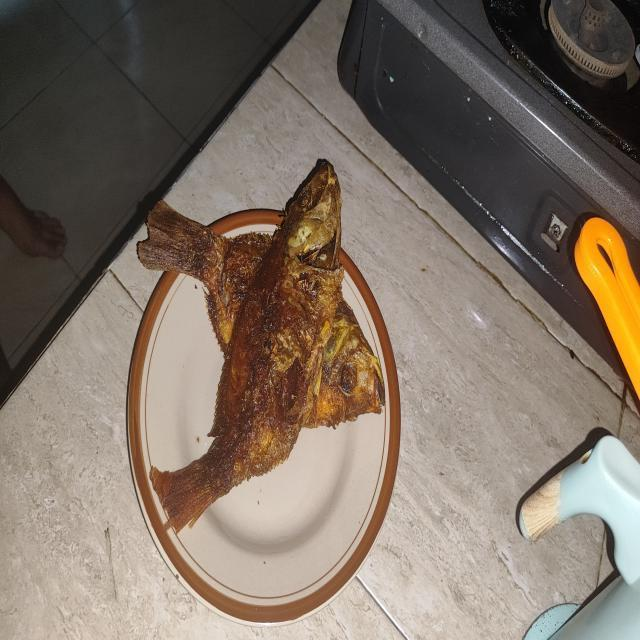ikan_mujair: (150, 160, 344, 534), (136, 201, 385, 430)
